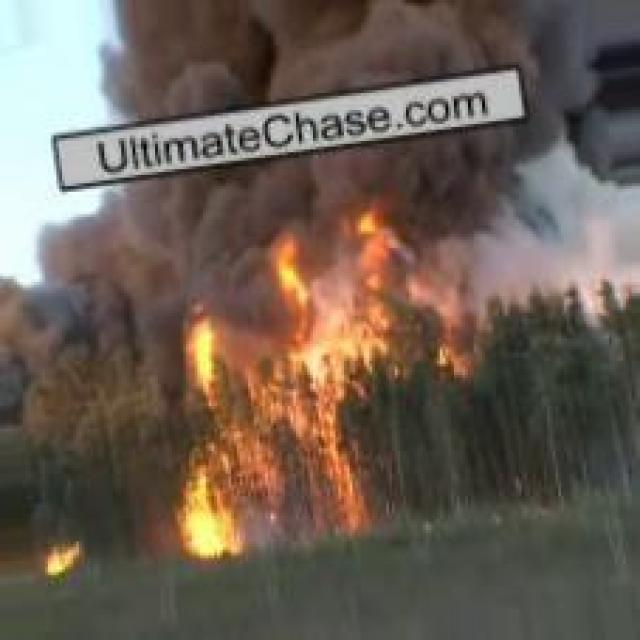fire: (176, 207, 495, 561), (28, 535, 93, 582)
smoke: (114, 0, 625, 192)
